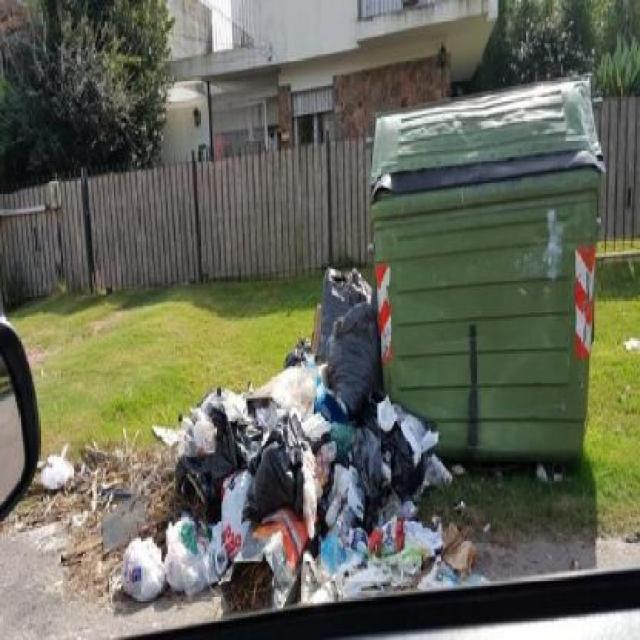garbage: (99, 333, 436, 589), (309, 248, 374, 485)
